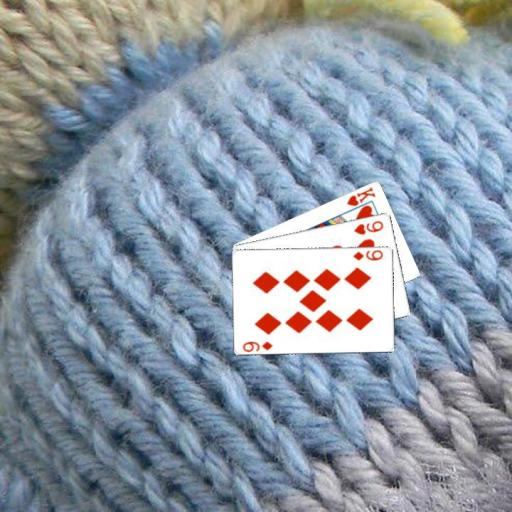9D: (351, 248, 385, 262), (240, 338, 274, 352)
9H: (351, 217, 385, 236)
KH: (343, 184, 377, 208)
